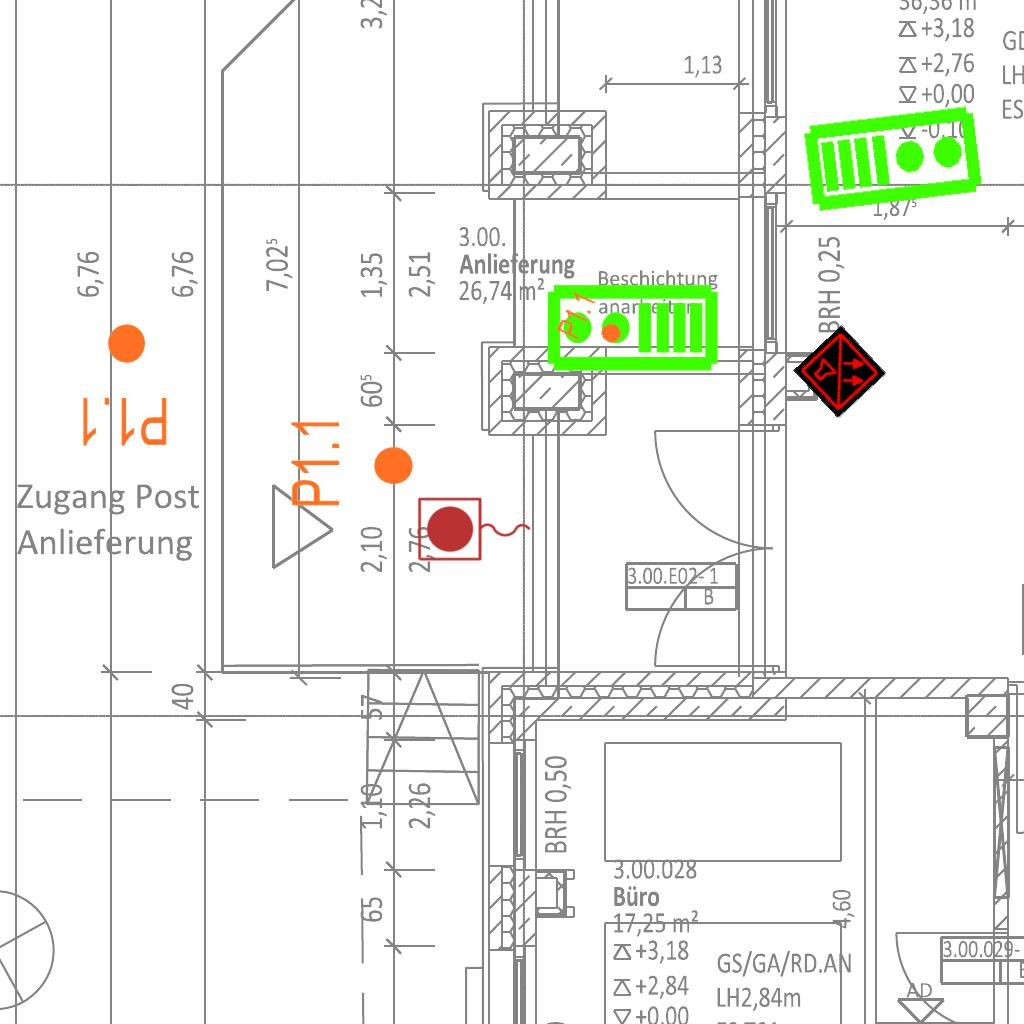Downlight_LED_Einbauleuchten_Flur: (288, 416, 416, 509), (77, 321, 170, 449), (554, 288, 632, 358)
Gegensprechanlage_mit_Video: (800, 99, 987, 215), (544, 282, 720, 377)
OKW_Multisensormelder_(Kombination_optischer_Rauch-Kahlenmonoxid_Waerme-Melder): (793, 325, 887, 419)
Zugtaster: (414, 494, 536, 566)
